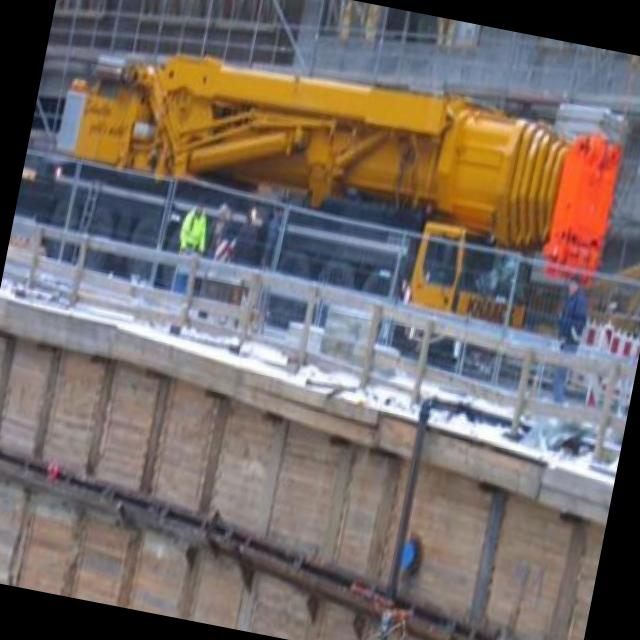Mobile Crane: (66, 21, 626, 274)
